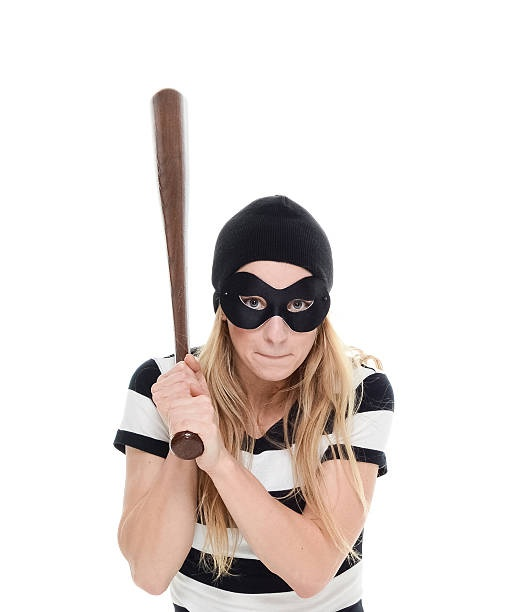bita: (143, 83, 203, 454)
